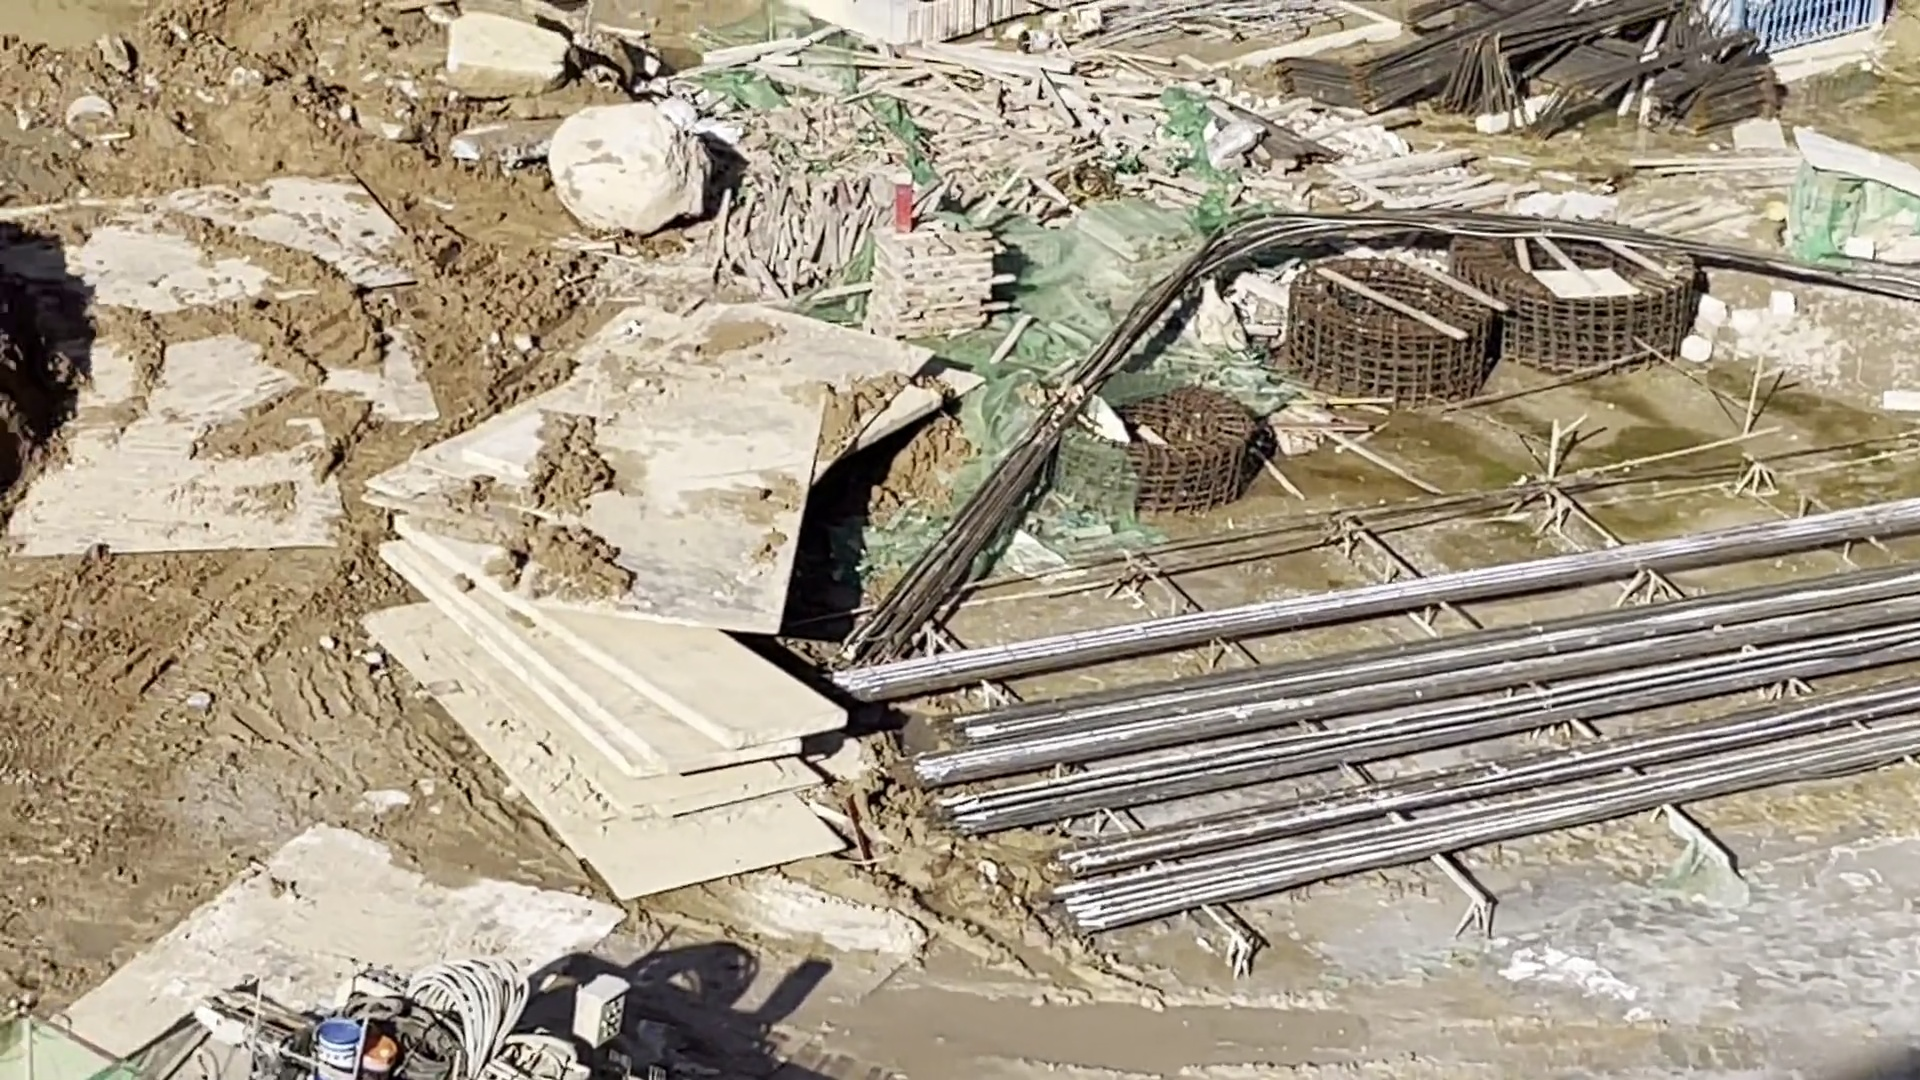board: (343, 278, 849, 895)
